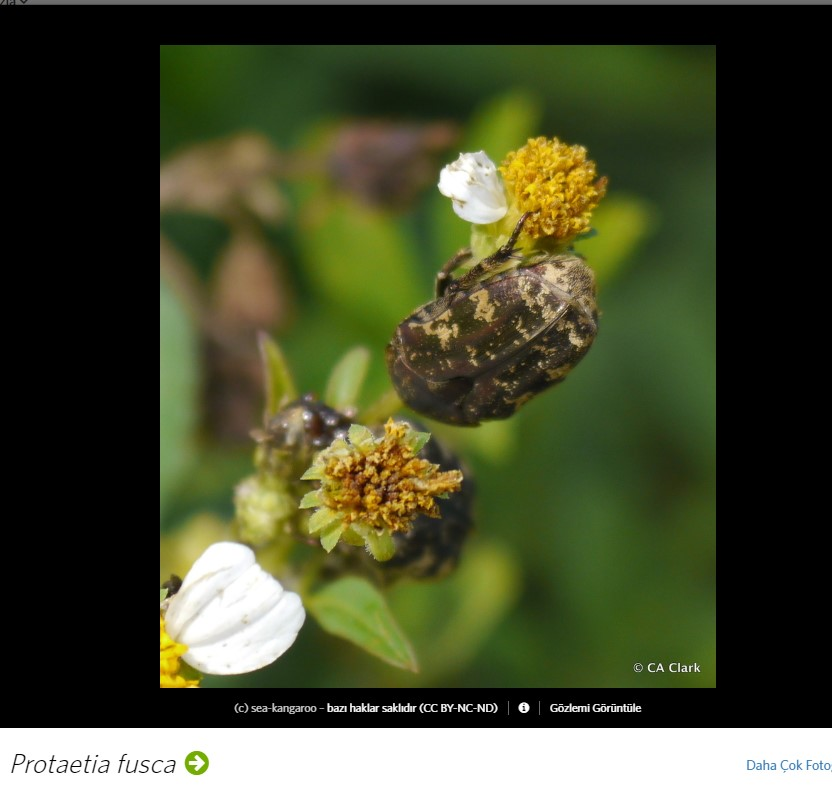Protaetia_fusca: (383, 206, 609, 428)
